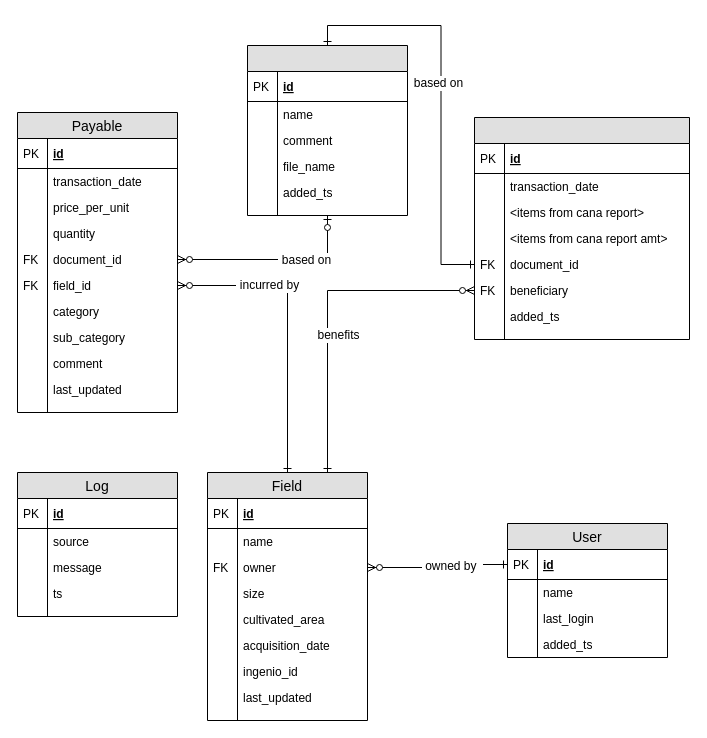
Image size: 707x738. Some labels were removed from this diagram. The shapes that lost their labels are listed below. From the top down, each one's box as (x1, y1, x2, y2) in pixels, then its label:
(246, 44, 408, 216): Document
(474, 116, 690, 340): Receivable
